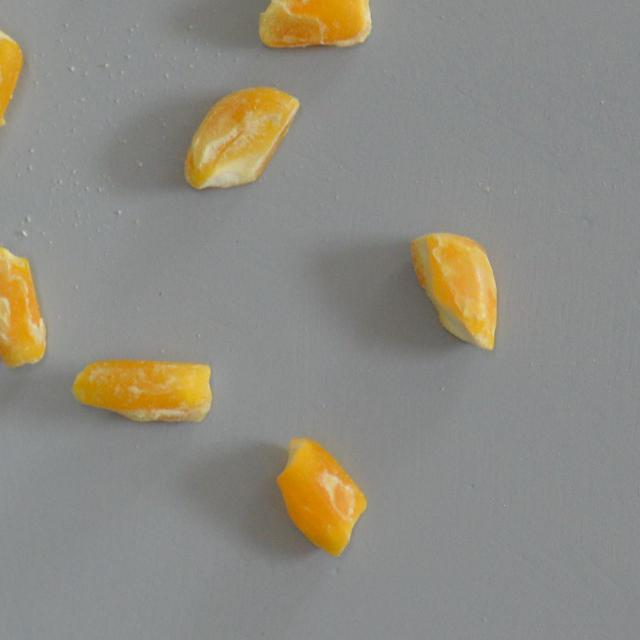pelicula: (182, 86, 299, 192), (276, 437, 368, 558), (408, 232, 499, 352), (70, 360, 214, 422), (0, 246, 47, 368), (258, 0, 372, 50), (0, 20, 23, 156)
